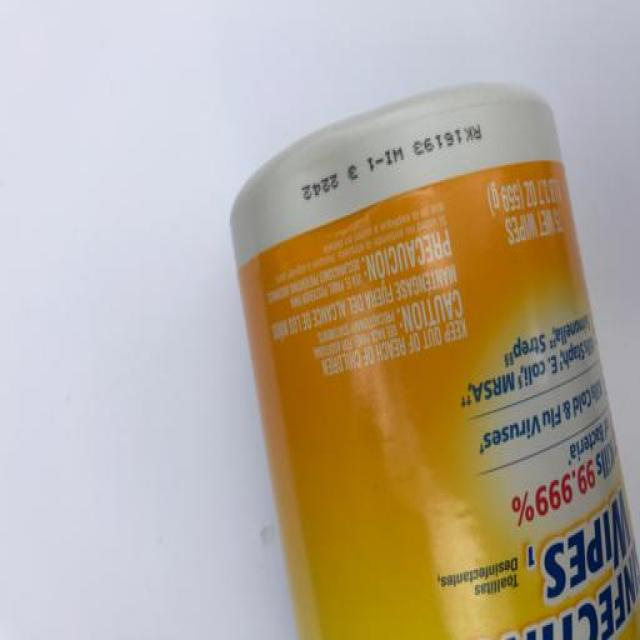plastic_bottle: (224, 65, 640, 640)
